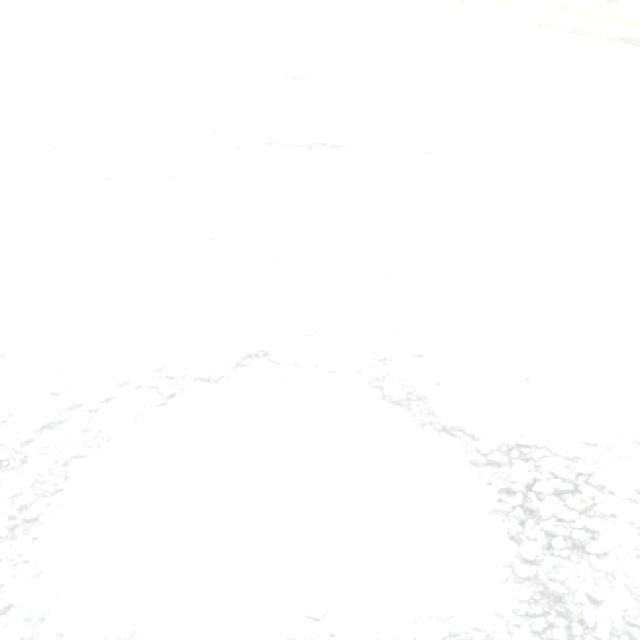Pothole: (0, 308, 640, 640), (146, 70, 466, 203)
